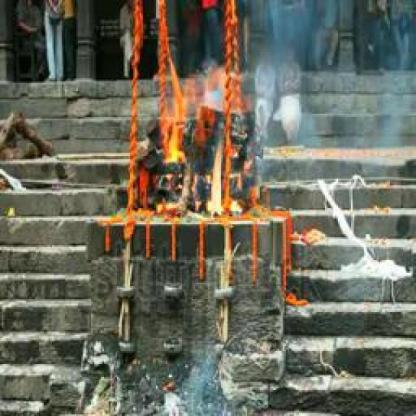fire: (156, 54, 224, 218)
